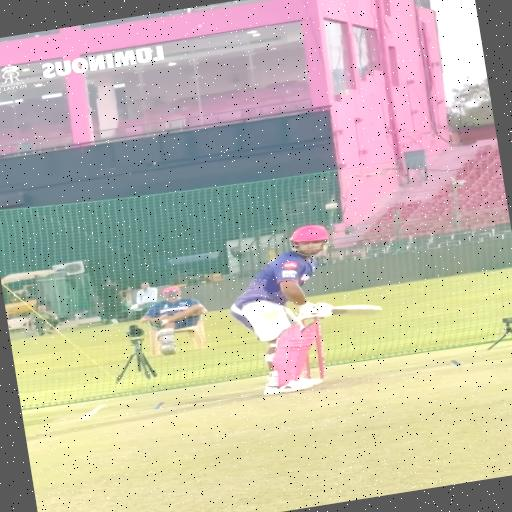Cricket bat: (332, 304, 381, 314)
